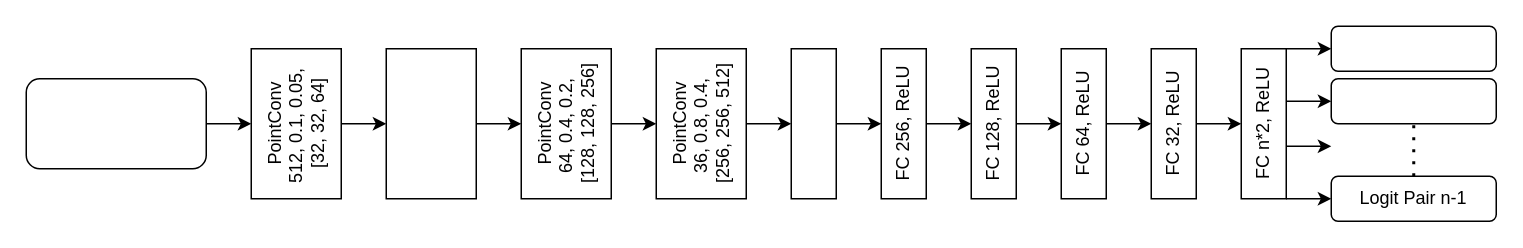
The diagram is 1523 pixels wide and 248 high, and some of its shapes have lost their labels. Here are the shapes that lost their labels. From the top down, the centre of each, then its label:
At pixel 1413 48: "Logit Pair 0".
At pixel 1413 100: "Logit Pair 1".
At pixel 115 123: "Point Cloud Centered at Grasp".
At pixel 430 123: "PointConv 256, 0.2, 0.1, [64, 64, 64]".
At pixel 813 123: "Flattening".
